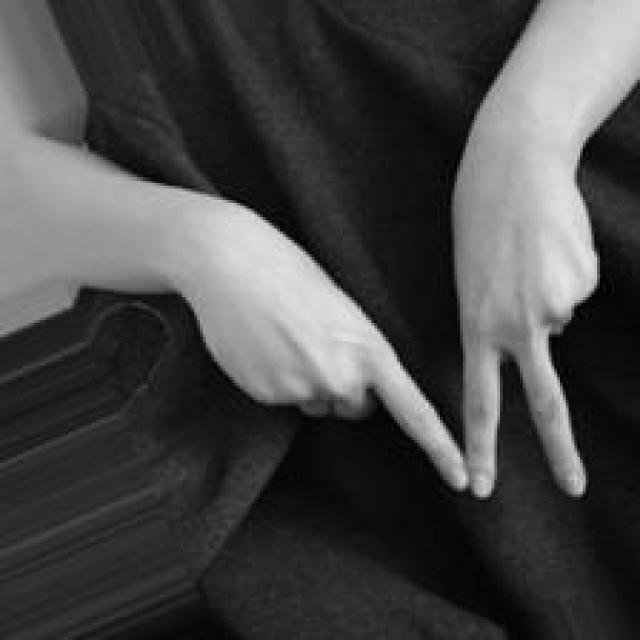N: (192, 140, 605, 510)
